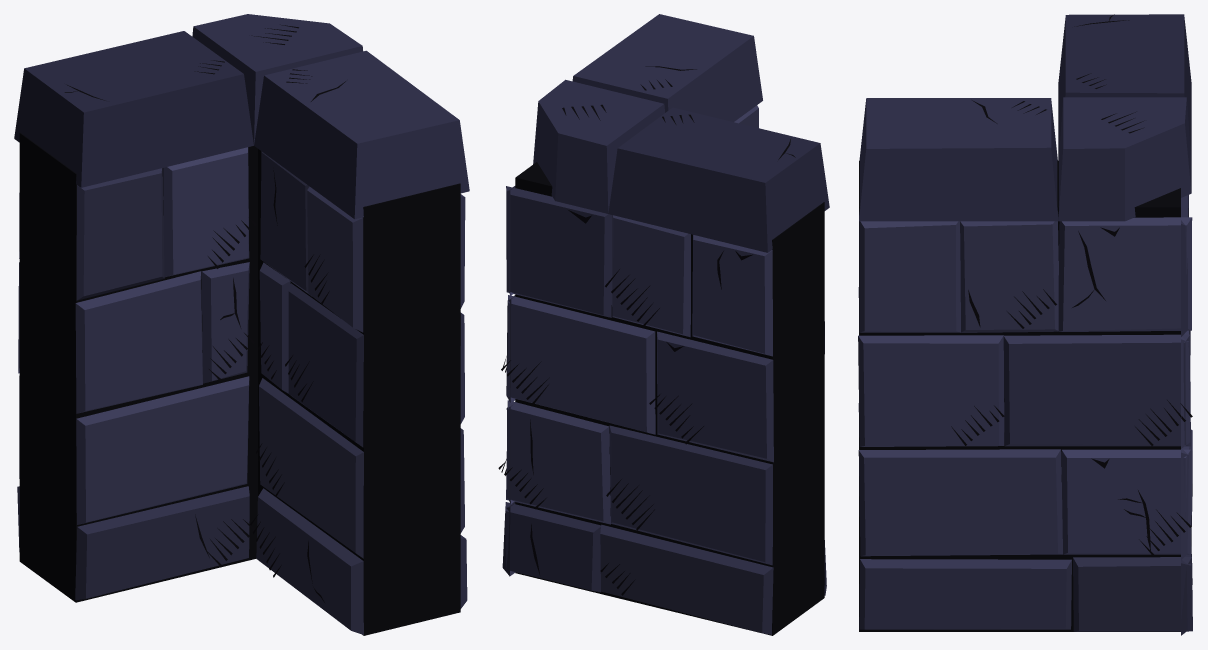
The model's file is wall_corner.glb.
3 renders of one model, left to right at view 1: azimuth 30°, elevation 25°; view 2: azimuth 150°, elevation 25°; view 3: azimuth 270°, elevation 25°, orthographic. The views are drawn at different scales.
Visible parts, largest first — view 1: wall_corner.001; view 2: wall_corner.001; view 3: wall_corner.001.
Boxes of the visible parts, x1=… form: wall_corner.001: x1=14, y1=14, x2=469, y2=635; wall_corner.001: x1=498, y1=14, x2=829, y2=635; wall_corner.001: x1=858, y1=14, x2=1192, y2=635.
Size of the model in its own units: 2.5 by 4 by 2.5.
